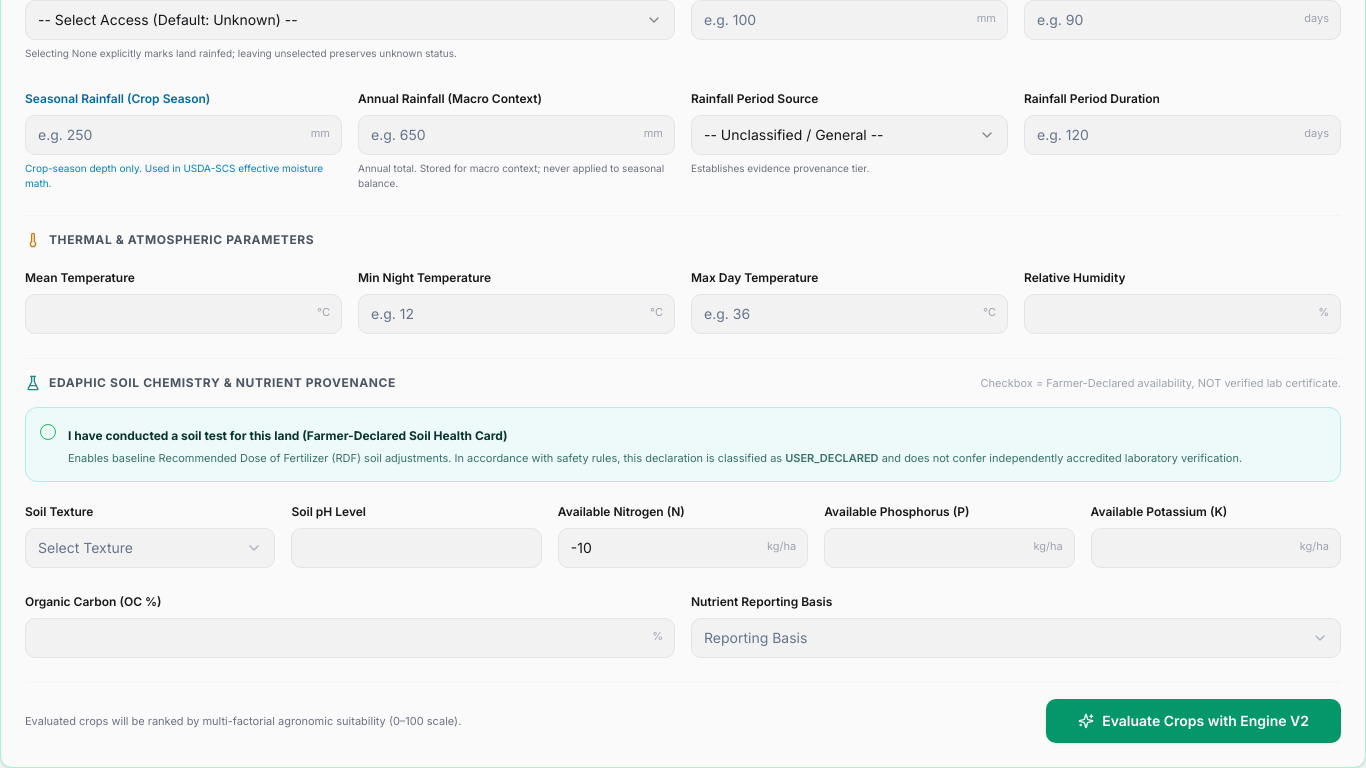
Test: Phase 3C.6.3: Frontend V2 Integration Tests › PredictionFormV2 Component › validates numeric bounds for negative nitrogen and shows error
(page scrolled)
Click the button "Evaluate Crops with Engine V2": (1194, 721) x1=1046 y1=699 x2=1341 y2=743
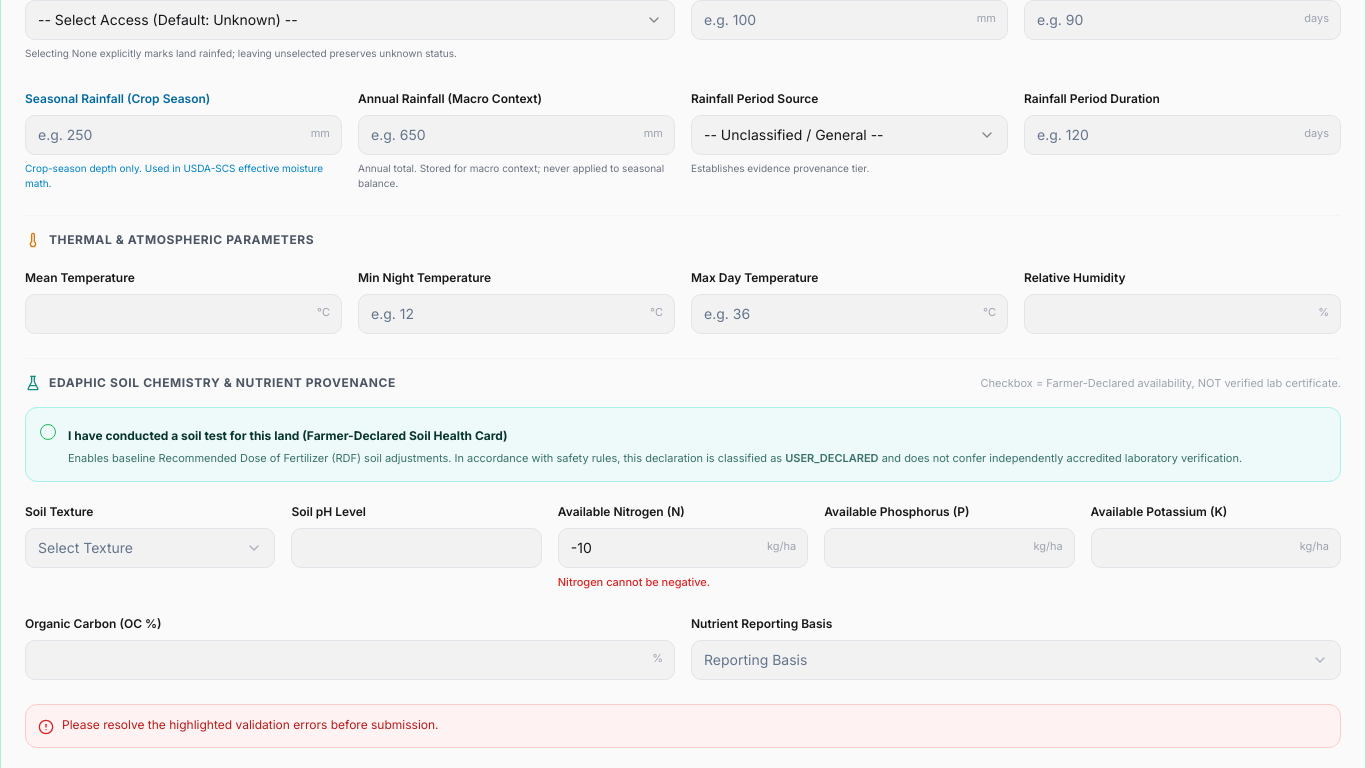
Check: the text "Nitrogen cannot be negative." is shown, box x1=558 y1=575 x2=710 y2=589
